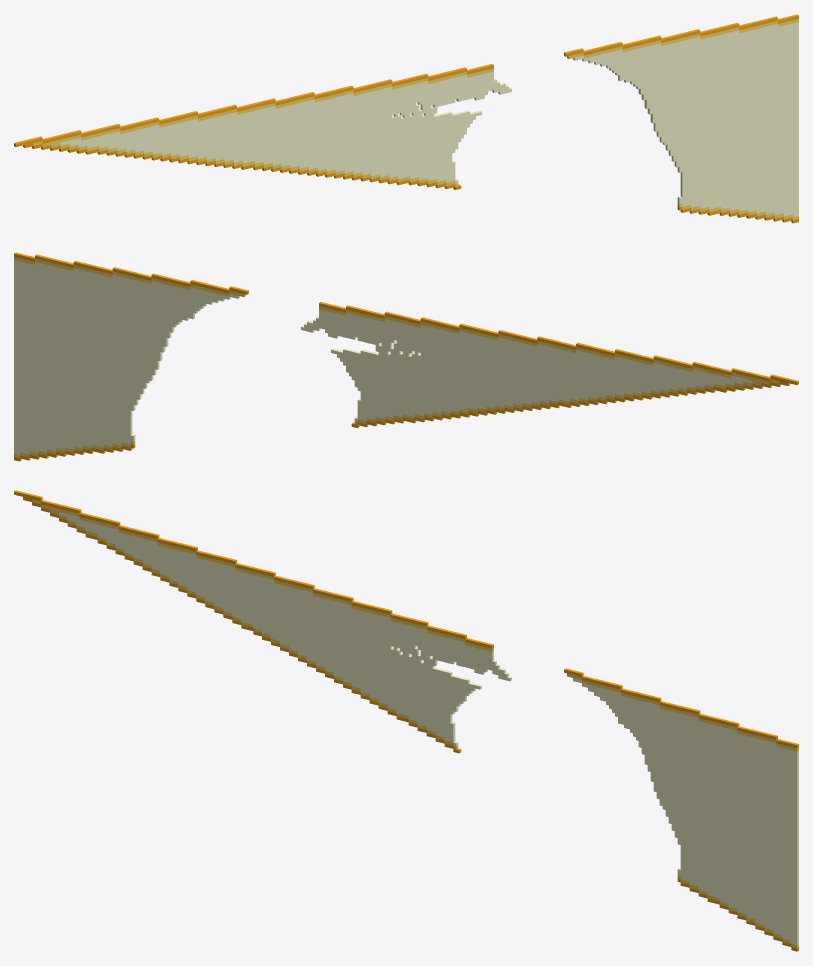
The model's file is Fight_007_2_04_fx.obj.
3 renders of one model, top to bottom at view 1: azimuth 30°, elevation 25°; view 2: azimuth 150°, elevation 25°; view 3: azimuth 330°, elevation 25°, orthographic.
Size of the model in its own units: 26.2 by 8.6 by 0.1.
